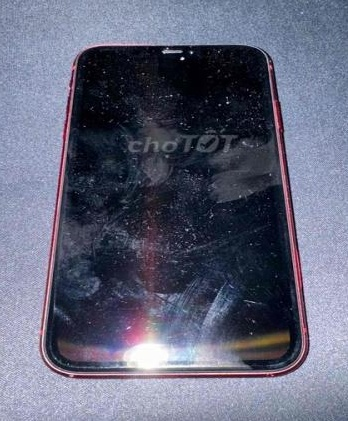scratch: (54, 267, 287, 361), (67, 185, 282, 268), (72, 119, 268, 182), (79, 64, 252, 114), (88, 41, 255, 57)
